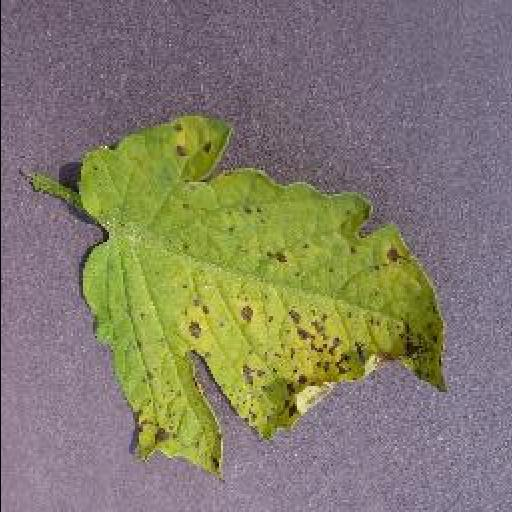disease_tomato: (76, 116, 450, 486)
